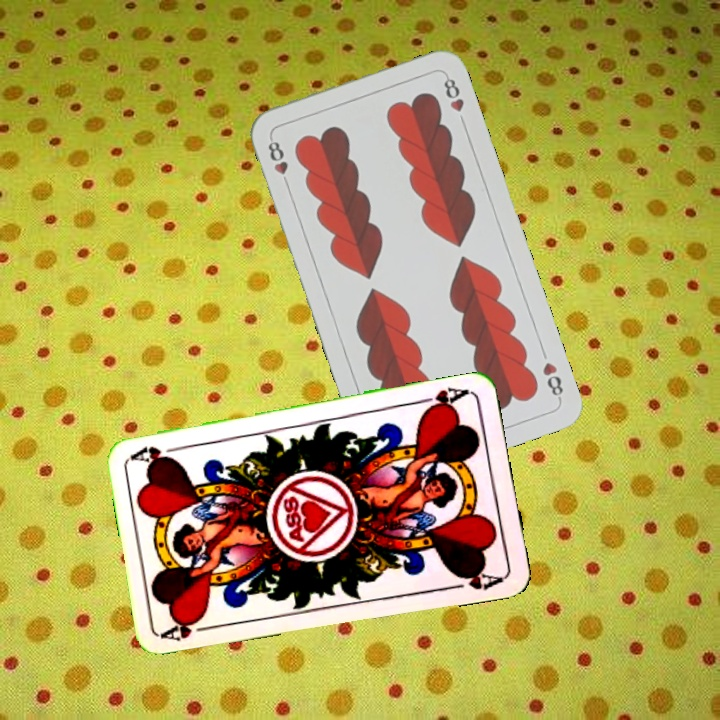H8: (264, 133, 293, 190), (538, 358, 566, 403)
HA: (415, 383, 474, 415), (160, 612, 219, 644)
